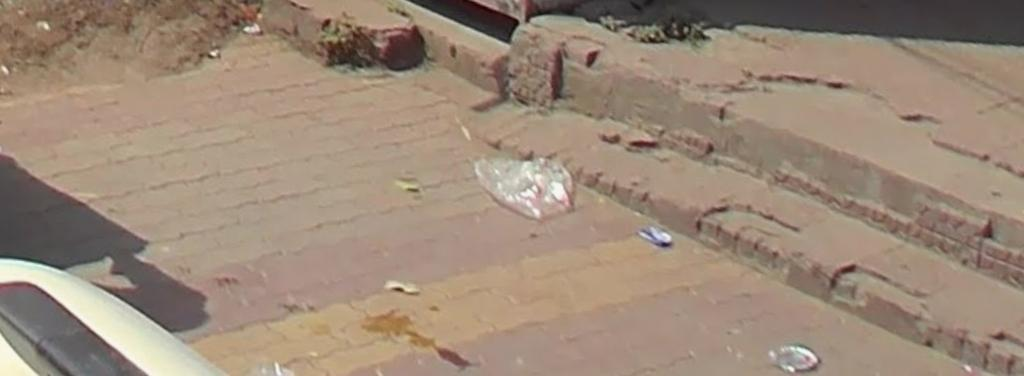garbage: (458, 145, 592, 233)
